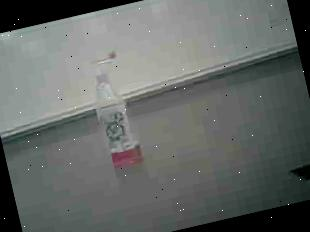hazard: (81, 44, 151, 176)
